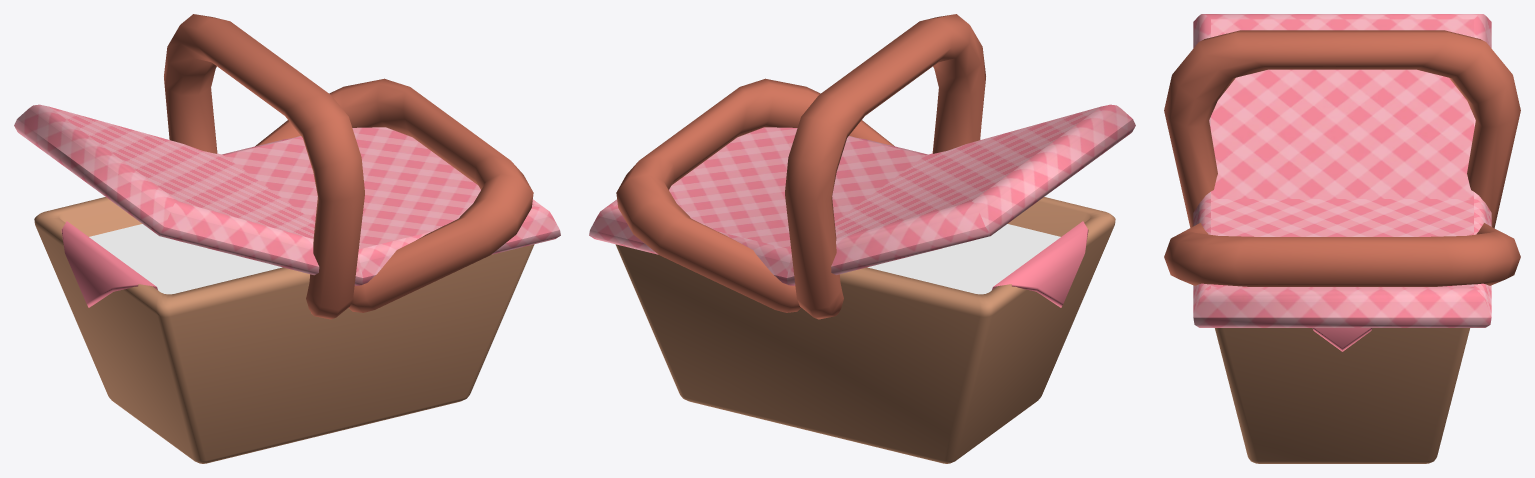
The model's file is basket_type_1__model_by_dino.glb.
3 renders of one model, left to right at view 1: azimuth 30°, elevation 25°; view 2: azimuth 150°, elevation 25°; view 3: azimuth 270°, elevation 25°, orthographic.
Parts seen in each view (by area): view 1: Basket, Cap, Basket handles, relleno de la canasta; view 2: Basket, Cap, Basket handles, relleno de la canasta; view 3: Cap, Basket handles, Basket.
Part boxes in pixels (x1,y1,x2,y2): Basket: (34, 197, 534, 463); Cap: (14, 104, 560, 285); Basket handles: (164, 14, 533, 319); relleno de la canasta: (89, 224, 282, 294); Basket: (615, 197, 1115, 463); Cap: (589, 104, 1135, 285); Basket handles: (616, 14, 985, 319); relleno de la canasta: (867, 224, 1060, 294); Cap: (1193, 14, 1491, 327); Basket handles: (1164, 30, 1520, 286); Basket: (1215, 328, 1469, 463).
Size of the model in its own units: 4.55 by 3.8 by 3.47.
Materials: 2 (1 with a texture image).
